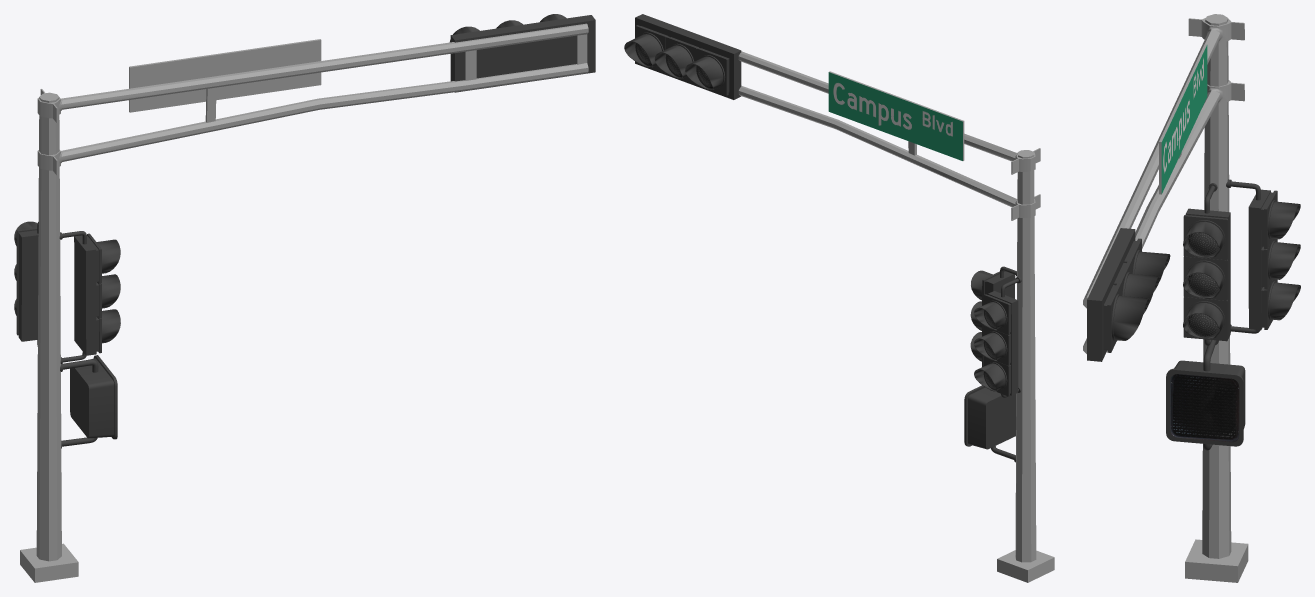
Rendered from Light9.fbx.
3 views of the same model, side by side, from view 1: azimuth 30°, elevation 25°; view 2: azimuth 150°, elevation 25°; view 3: azimuth 270°, elevation 25° (orthographic). The views are drawn at different scales.
Visible parts, largest first — view 1: Traffic Lights.022; view 2: Traffic Lights.022; view 3: Traffic Lights.022.
Part boxes in pixels (bbox=[...]): Traffic Lights.022: bbox=[14, 14, 595, 582]; Traffic Lights.022: bbox=[624, 14, 1054, 582]; Traffic Lights.022: bbox=[1083, 14, 1300, 582].
Bounding box in the file's own units: 987 × 892 × 310.
